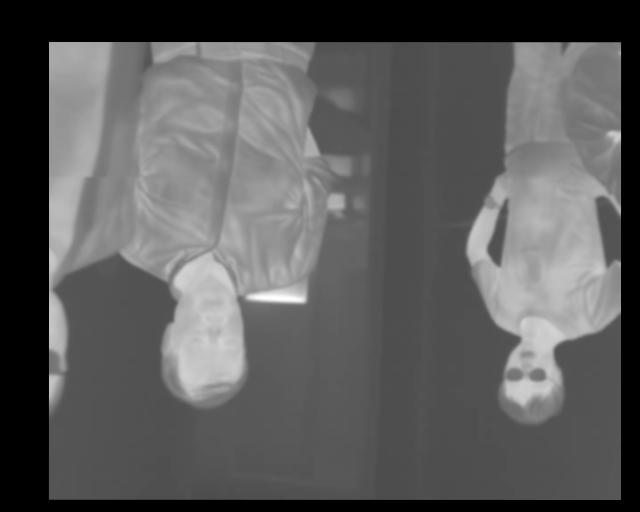face: (159, 285, 246, 410), (498, 339, 566, 426)
